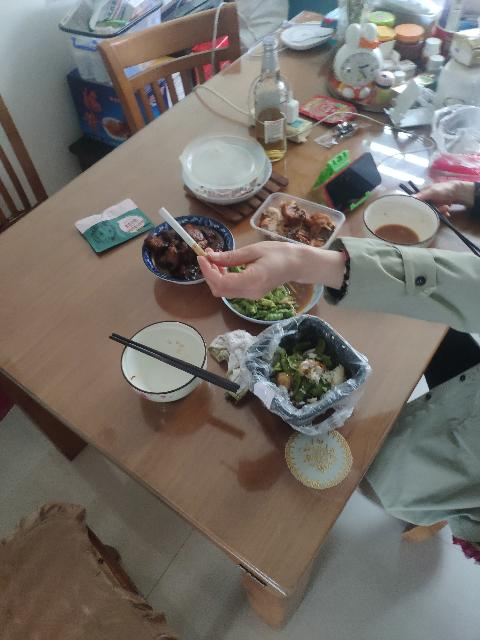Cigarette: (158, 207, 214, 263)
